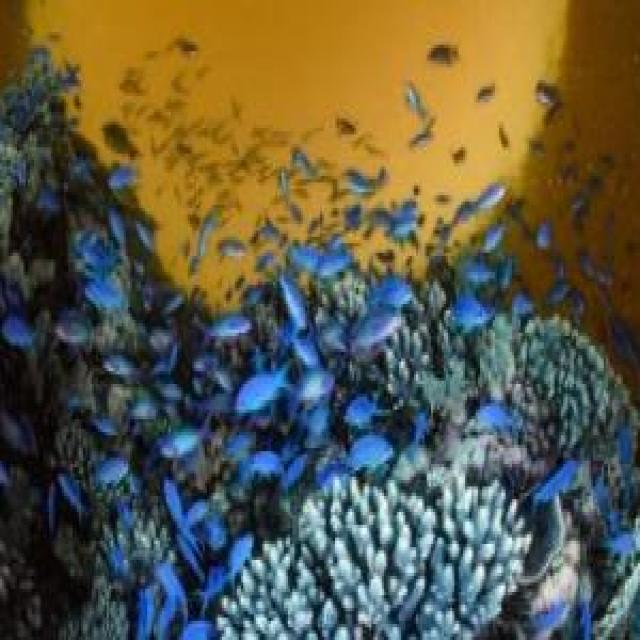Healthy: (217, 466, 522, 640)
